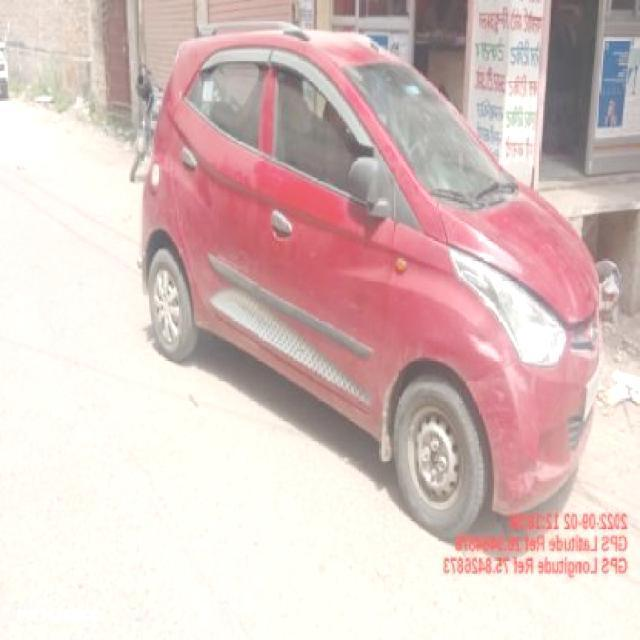minor: (458, 309, 515, 383)
